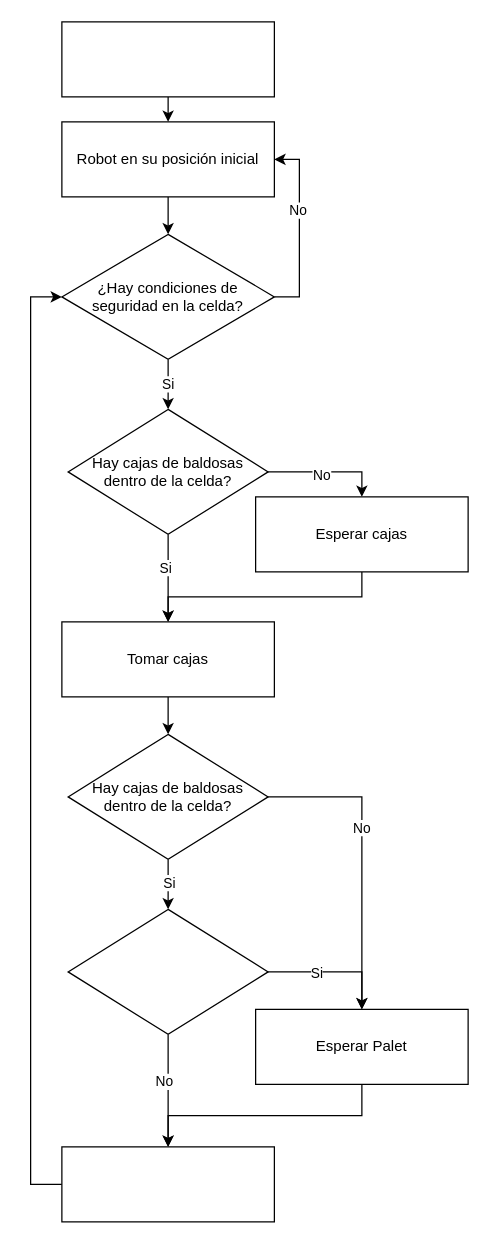
Image size: 490x1244. Some labels were removed from this diagram. The shapes that lost their labels are listed below. From the top down, each one's centre as x and y in pixels, then its label:
At [167,59]: "Inicio".
At [167,971]: "¿El palet esta lleno?".
At [167,1184]: "Posicionar caja en el palet".
